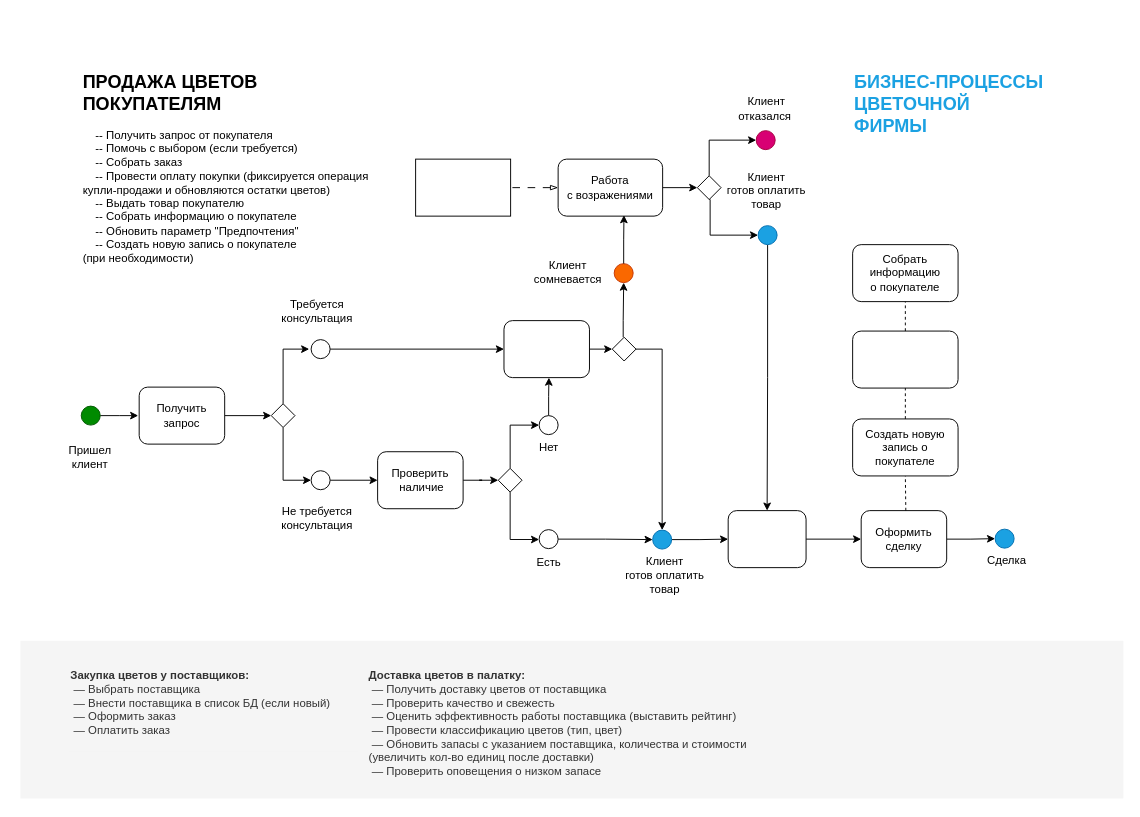
The diagram is 1140 pixels wide and 817 high, and some of its shapes have lost their labels. The centre of each missing label's shape, as x and y in pixels:
Обновить параметр "Предпочтения": (905,359)
Провести презентацию: (546,349)
Скрипт для продавца: (463,187)
Собрать заказ: (766,539)
